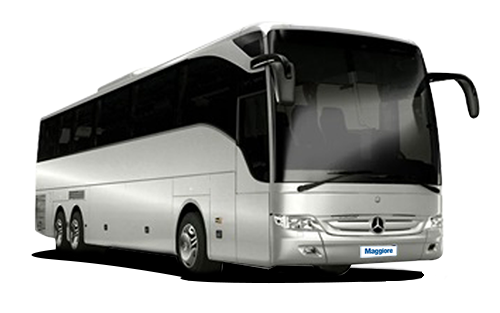bus: (33, 21, 444, 273)
